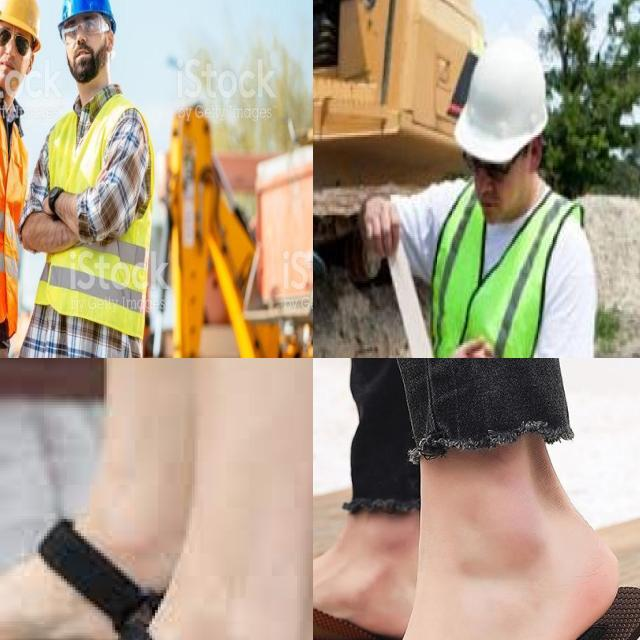No_Ear-Protection: (106, 29, 115, 56)
face_nomask: (471, 158, 523, 230), (64, 20, 108, 81), (0, 23, 29, 97)
glasses: (460, 146, 514, 184), (61, 15, 106, 48), (0, 25, 32, 62)
hand_noglove: (363, 192, 406, 260), (445, 338, 505, 358)
head_helmet: (448, 38, 552, 166), (53, 0, 117, 34), (0, 0, 42, 49)
person: (368, 36, 591, 358), (40, 0, 145, 358), (0, 0, 31, 358)
vest: (426, 184, 588, 358), (44, 98, 154, 347), (0, 77, 21, 333)
